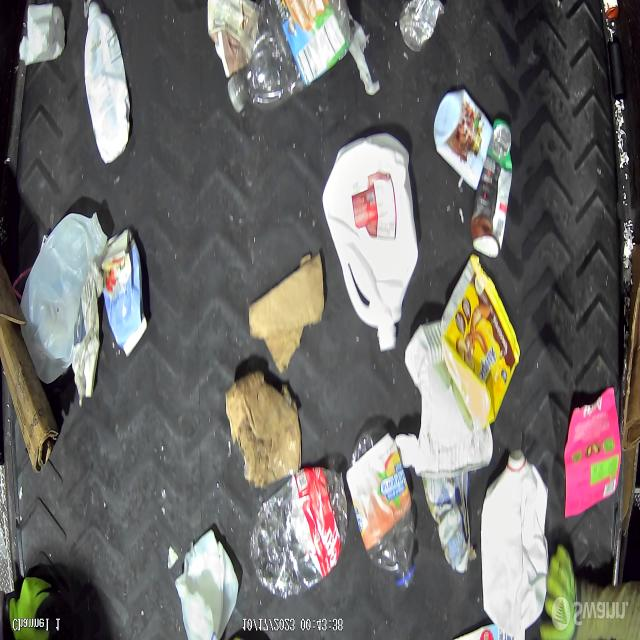milk_jug: (324, 130, 418, 353), (20, 212, 108, 385), (481, 447, 549, 637), (84, 1, 130, 166), (174, 530, 240, 640)
non_white_jug: (102, 228, 147, 358)
plastic_bottle: (227, 0, 352, 111), (250, 466, 344, 600), (347, 434, 419, 590)
